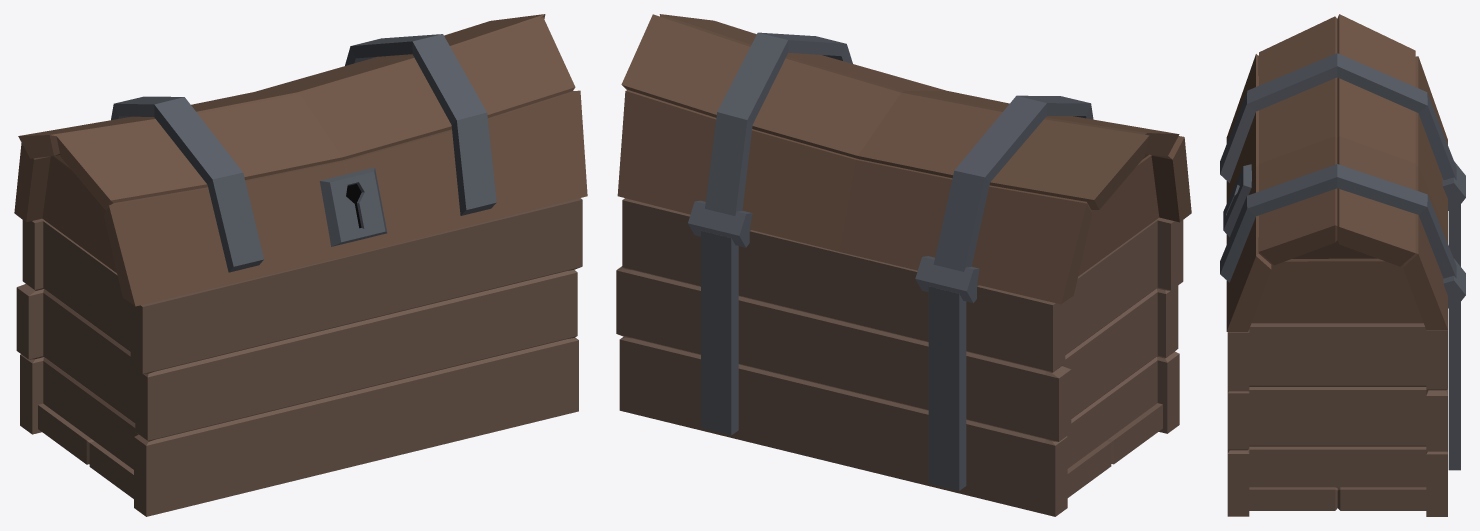
The model's file is ForziereChiuso.fbx.
3 views of the same model, side by side, from view 1: azimuth 30°, elevation 25°; view 2: azimuth 150°, elevation 25°; view 3: azimuth 270°, elevation 25° (orthographic). The views are drawn at different scales.
Visible parts, largest first — view 1: ChestLid.001; view 2: ChestLid.001; view 3: ChestLid.001.
Boxes of the visible parts, box(x1,y1,x2,y2) form: ChestLid.001: box(14, 14, 587, 516); ChestLid.001: box(616, 14, 1191, 516); ChestLid.001: box(1220, 14, 1465, 516).
Bounding box in the file's own units: 97.59 × 65.78 × 47.64.
